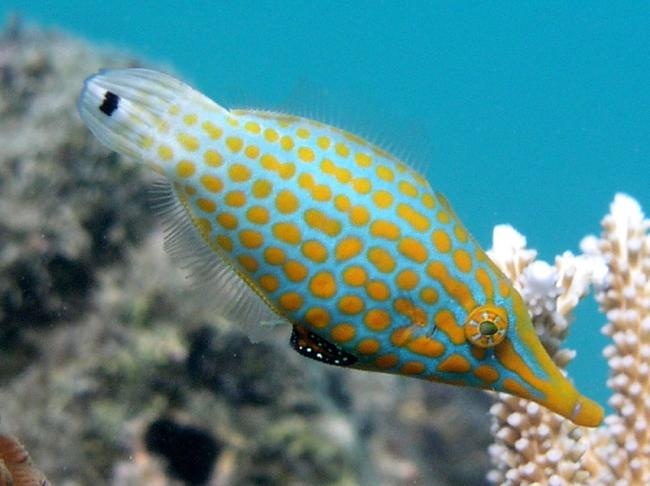fish: (77, 66, 606, 429)
